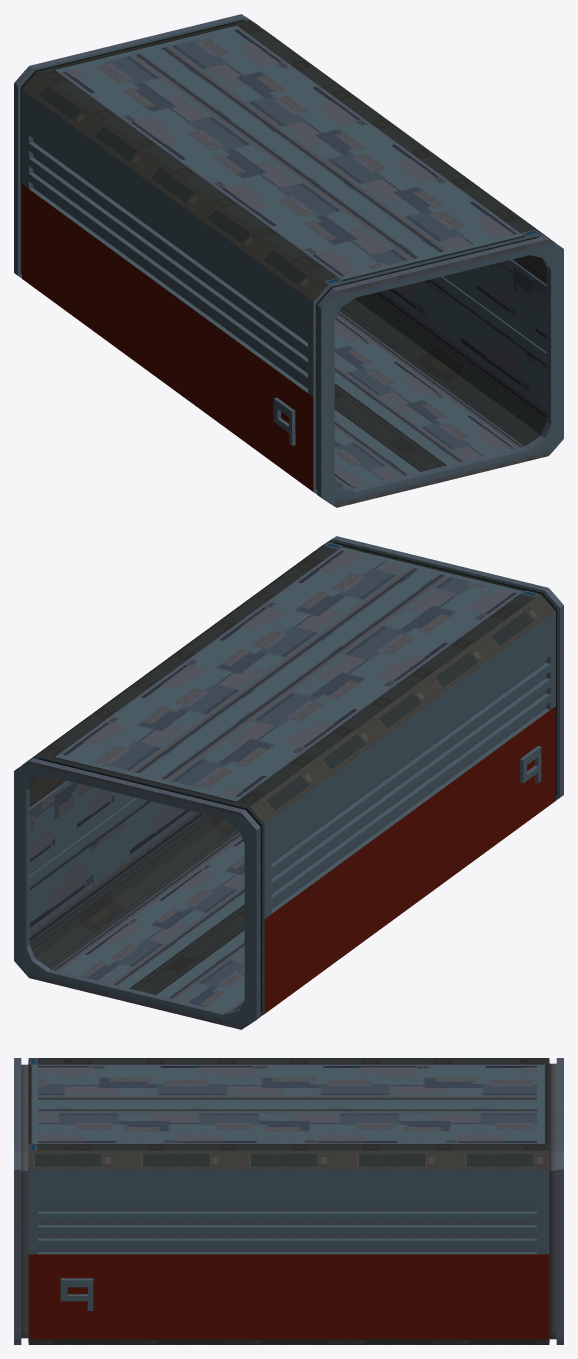
The model's file is mdlCargoHoldNormal.fbx.
3 views of the same model, one above another, from view 1: azimuth 30°, elevation 25°; view 2: azimuth 150°, elevation 25°; view 3: azimuth 270°, elevation 25° (orthographic). The views are drawn at different scales.
Parts seen in each view (by area): view 1: CargoHold; view 2: CargoHold; view 3: CargoHold.
Boxes of the visible parts, x1,y1,x2,y2 form: CargoHold: [14, 14, 563, 507]; CargoHold: [14, 536, 563, 1029]; CargoHold: [14, 1058, 563, 1344].
Bounding box in the file's own units: 66.98 × 55.49 × 143.
